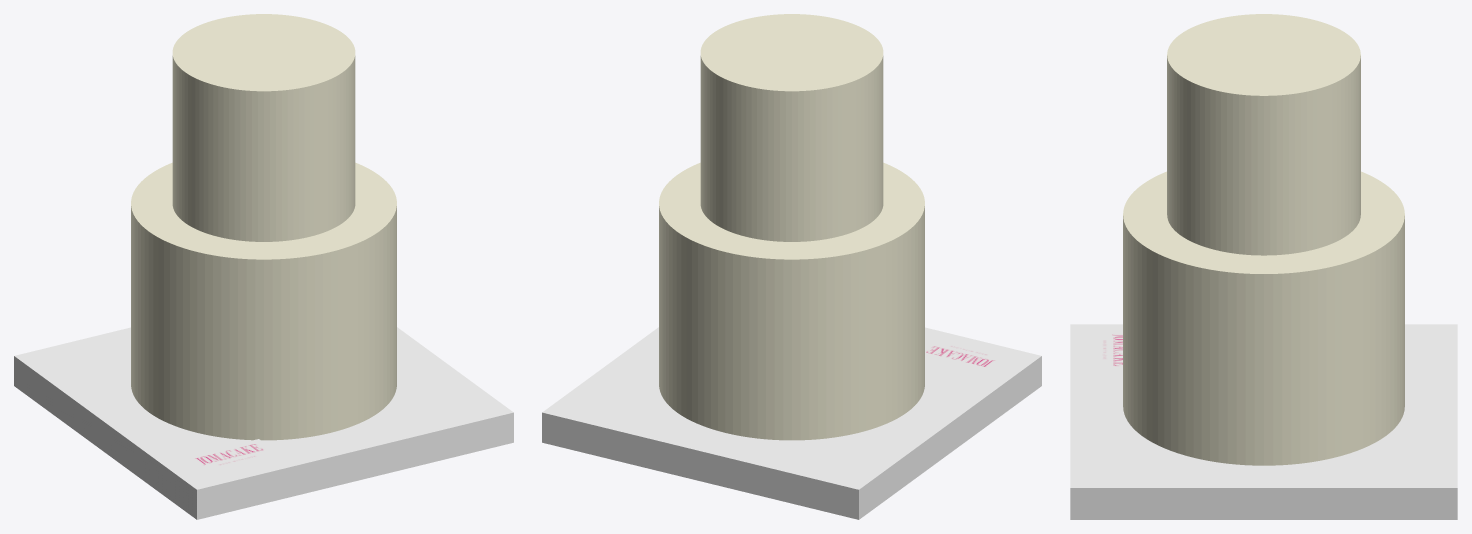
File: cake_tier2_6-4_layers3_v34.glb
3 views of the same model, side by side, from view 1: azimuth 30°, elevation 25°; view 2: azimuth 150°, elevation 25°; view 3: azimuth 270°, elevation 25° (orthographic). The views are drawn at different scales.
Visible parts, largest first — view 1: Tier0, Tier1, Board, Logo; view 2: Tier0, Tier1, Board, Logo; view 3: Tier0, Tier1, Board, Logo.
Boxes of the visible parts, x1,y1,x2,y2 form: Tier0: (131,162,396,440); Tier1: (172,14,355,241); Board: (14,327,513,519); Logo: (183,439,280,473); Tier0: (659,162,924,440); Tier1: (700,14,883,241); Board: (542,327,1041,519); Logo: (925,337,1011,371); Tier0: (1123,171,1404,465); Tier1: (1167,14,1360,255); Board: (1070,324,1457,519); Logo: (1093,330,1122,369).
Size of the model in its own units: 0.22 by 0.24 by 0.22.
